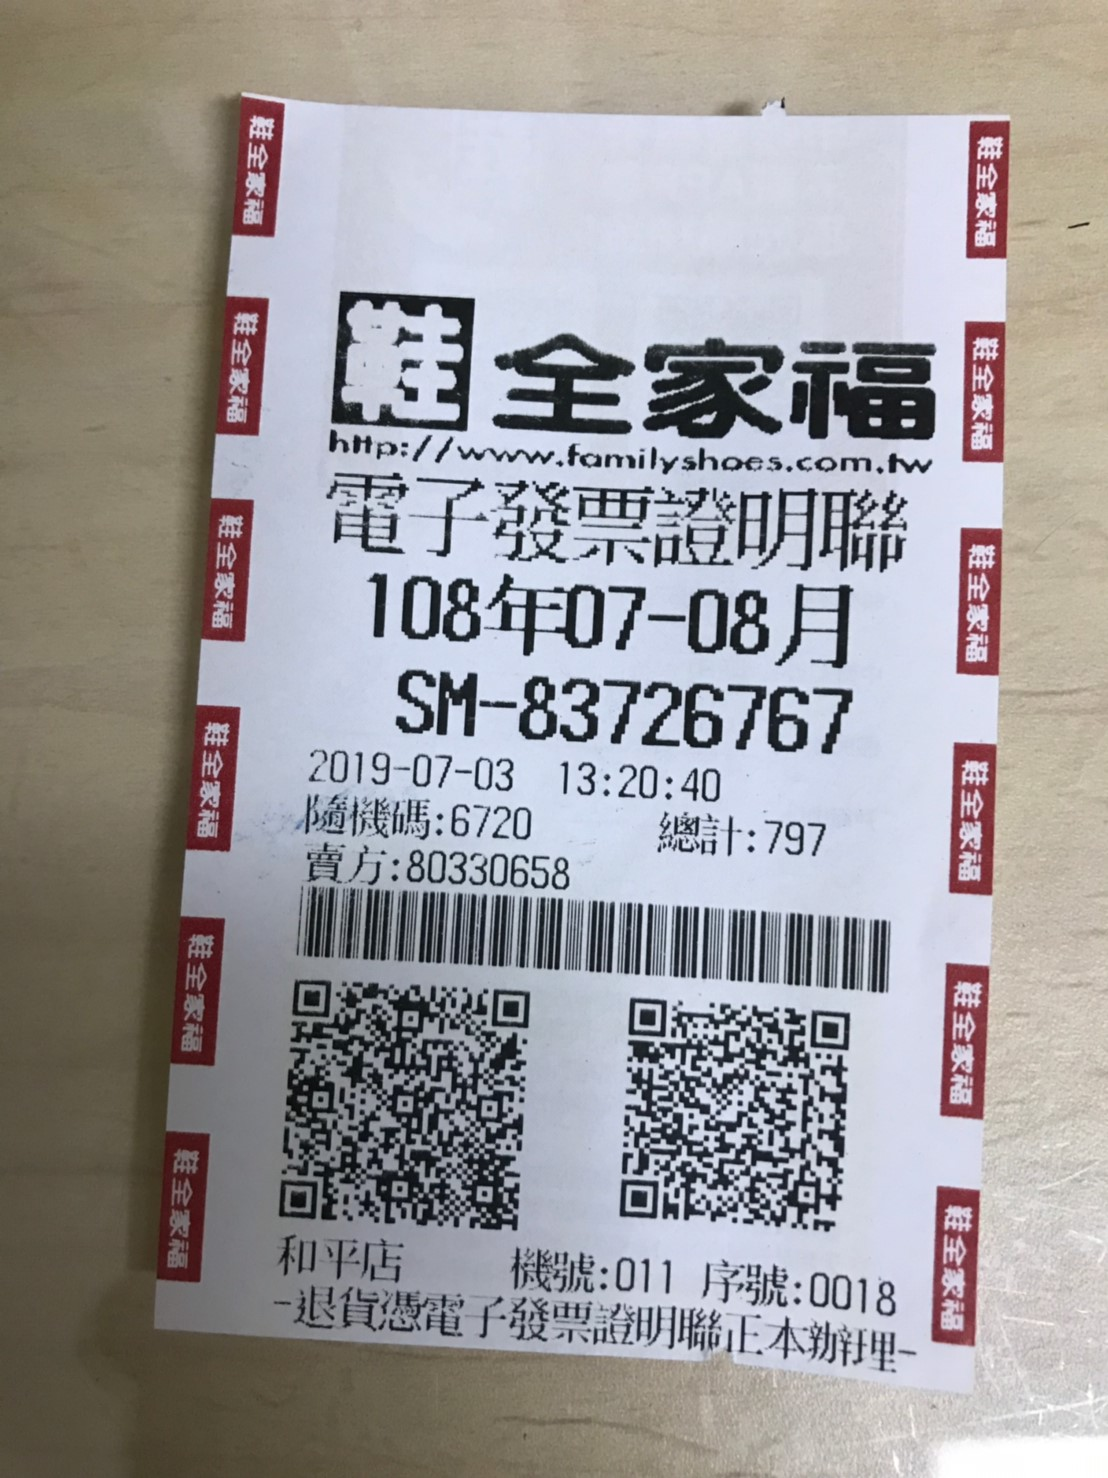Date_New: (364, 567, 852, 672)
Number_New: (521, 661, 859, 760)
